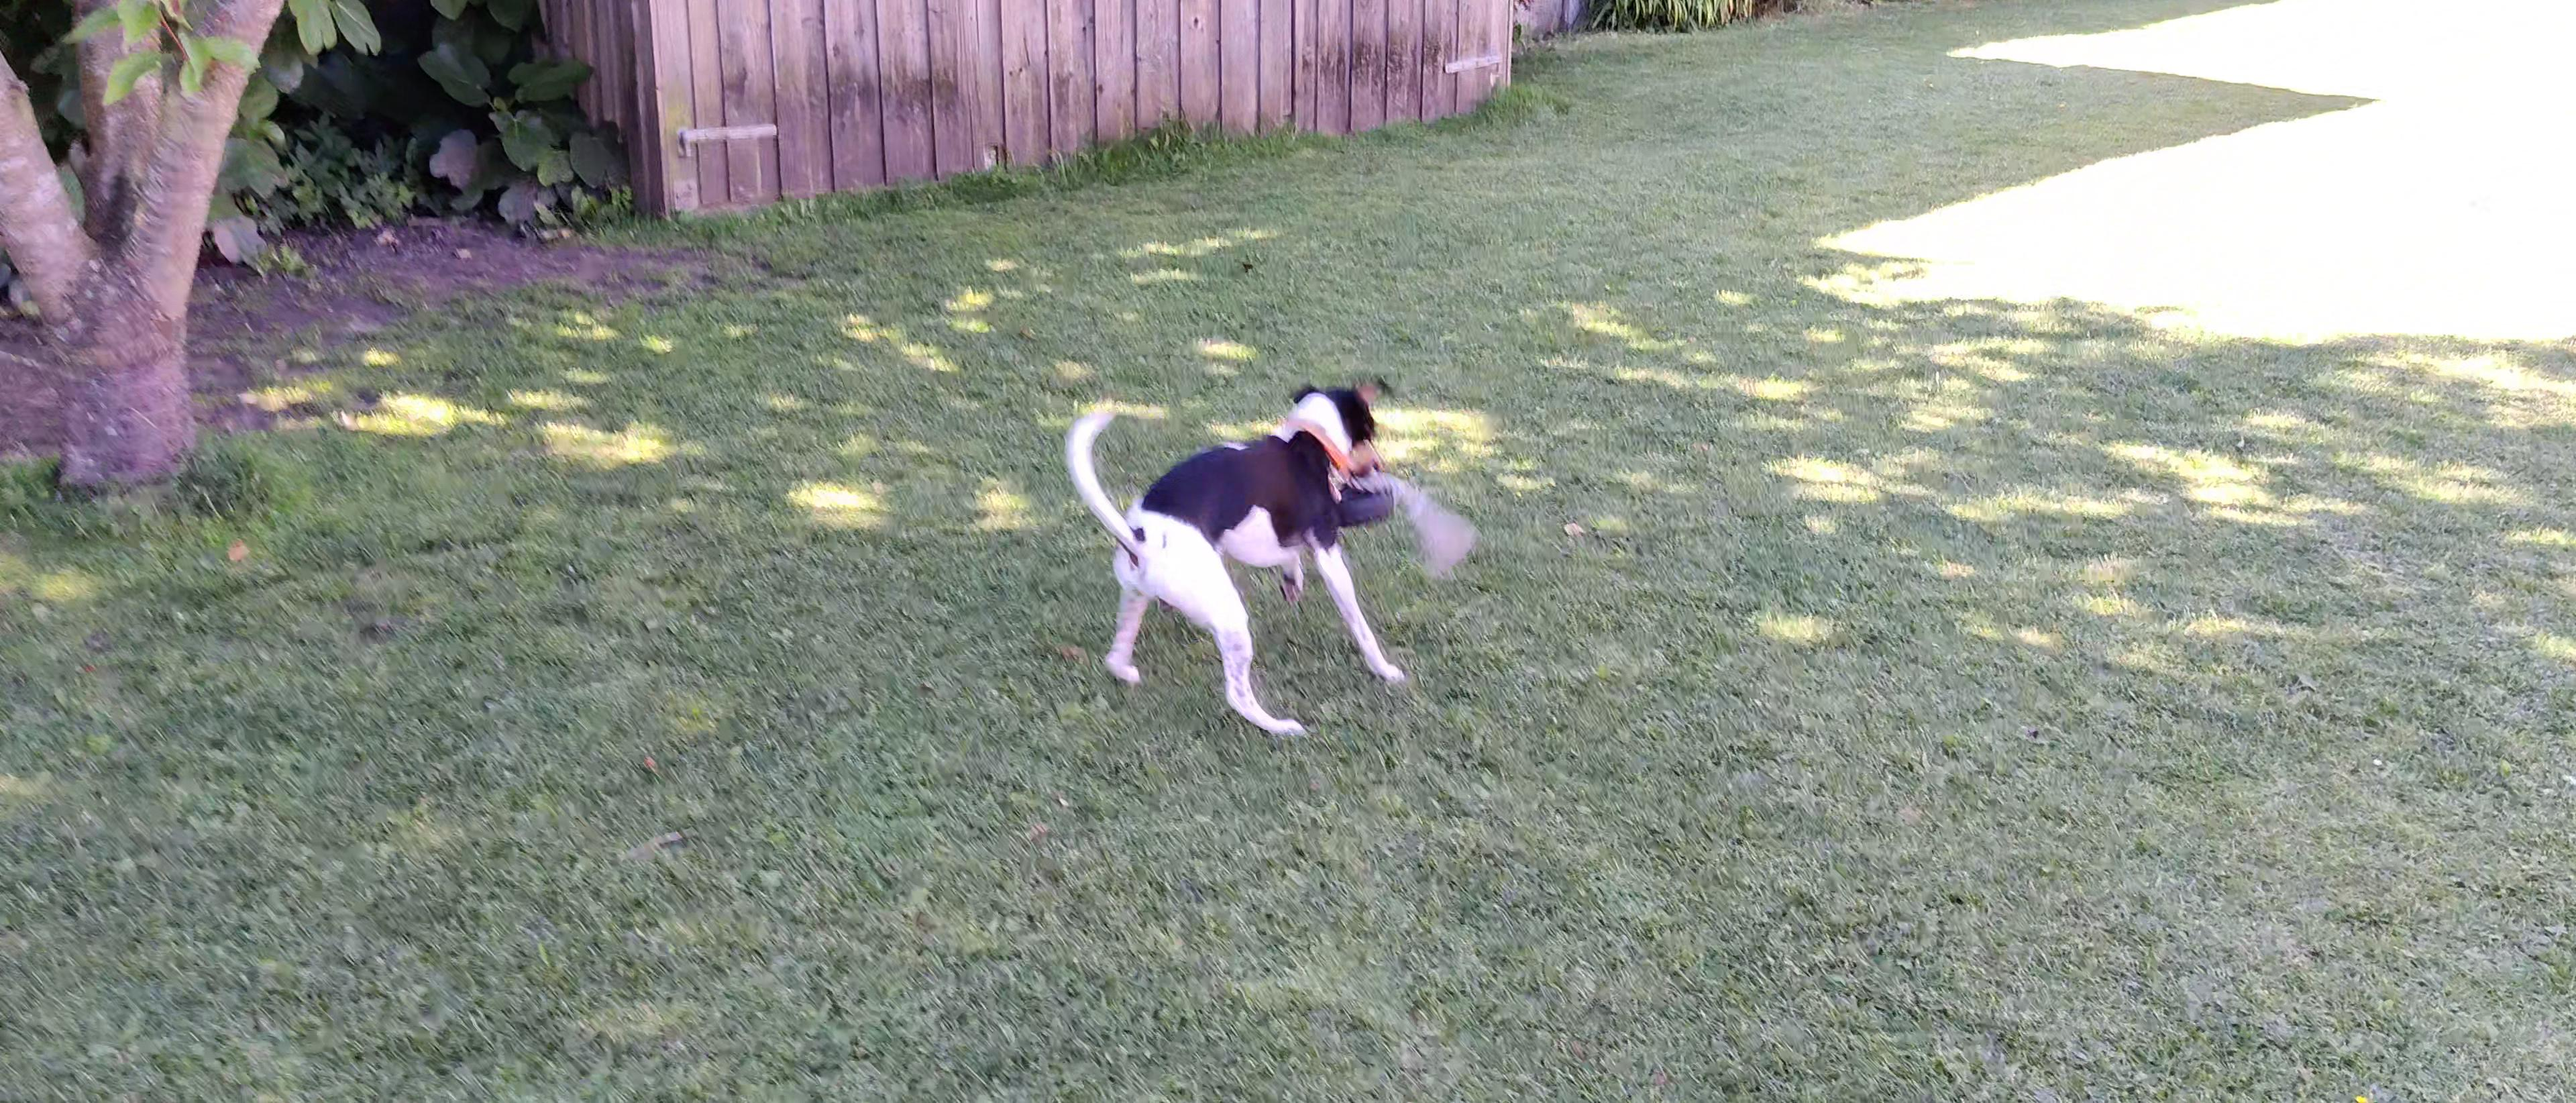Dog: (1065, 373, 1405, 750)
